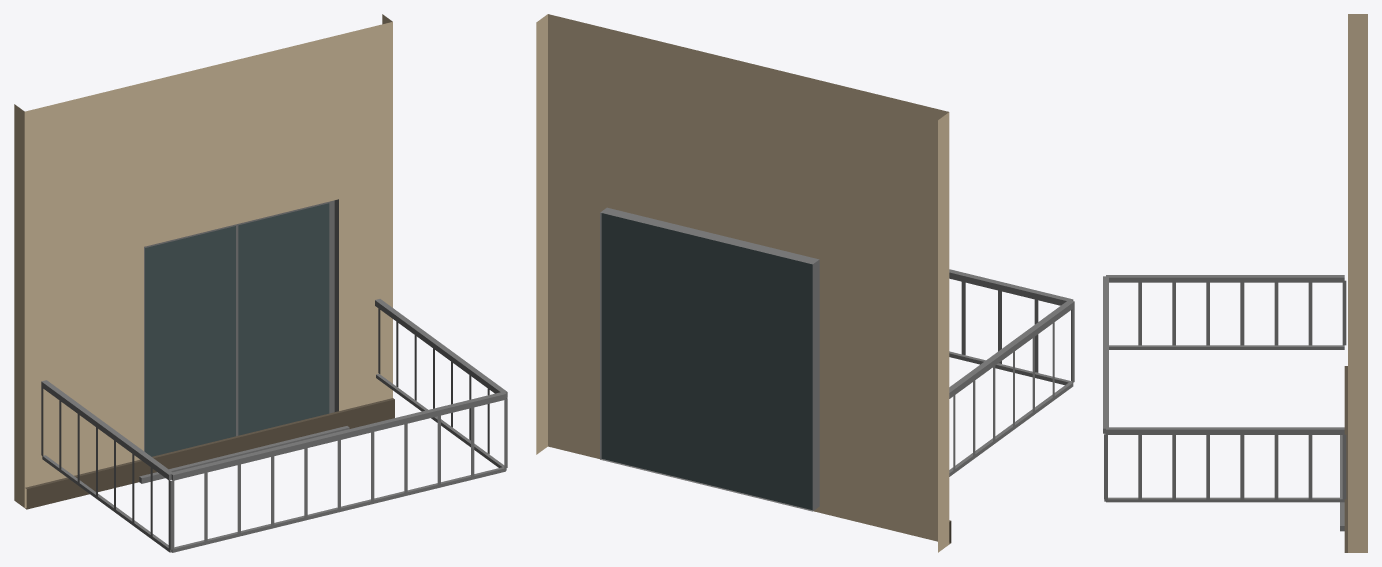
File: top-stair.fbx
3 views of the same model, side by side, from view 1: azimuth 30°, elevation 25°; view 2: azimuth 150°, elevation 25°; view 3: azimuth 270°, elevation 25° (orthographic). The views are drawn at different scales.
Visible parts, largest first — view 1: a2000/400/top-stair; view 2: a2000/400/top-stair; view 3: a2000/400/top-stair.
Part boxes in pixels (x1=…): a2000/400/top-stair: x1=14, y1=14, x2=507, y2=552; a2000/400/top-stair: x1=536, y1=14, x2=1074, y2=552; a2000/400/top-stair: x1=1103, y1=14, x2=1367, y2=552.
Size of the model in its own units: 3.4 by 3.5 by 2.27.
